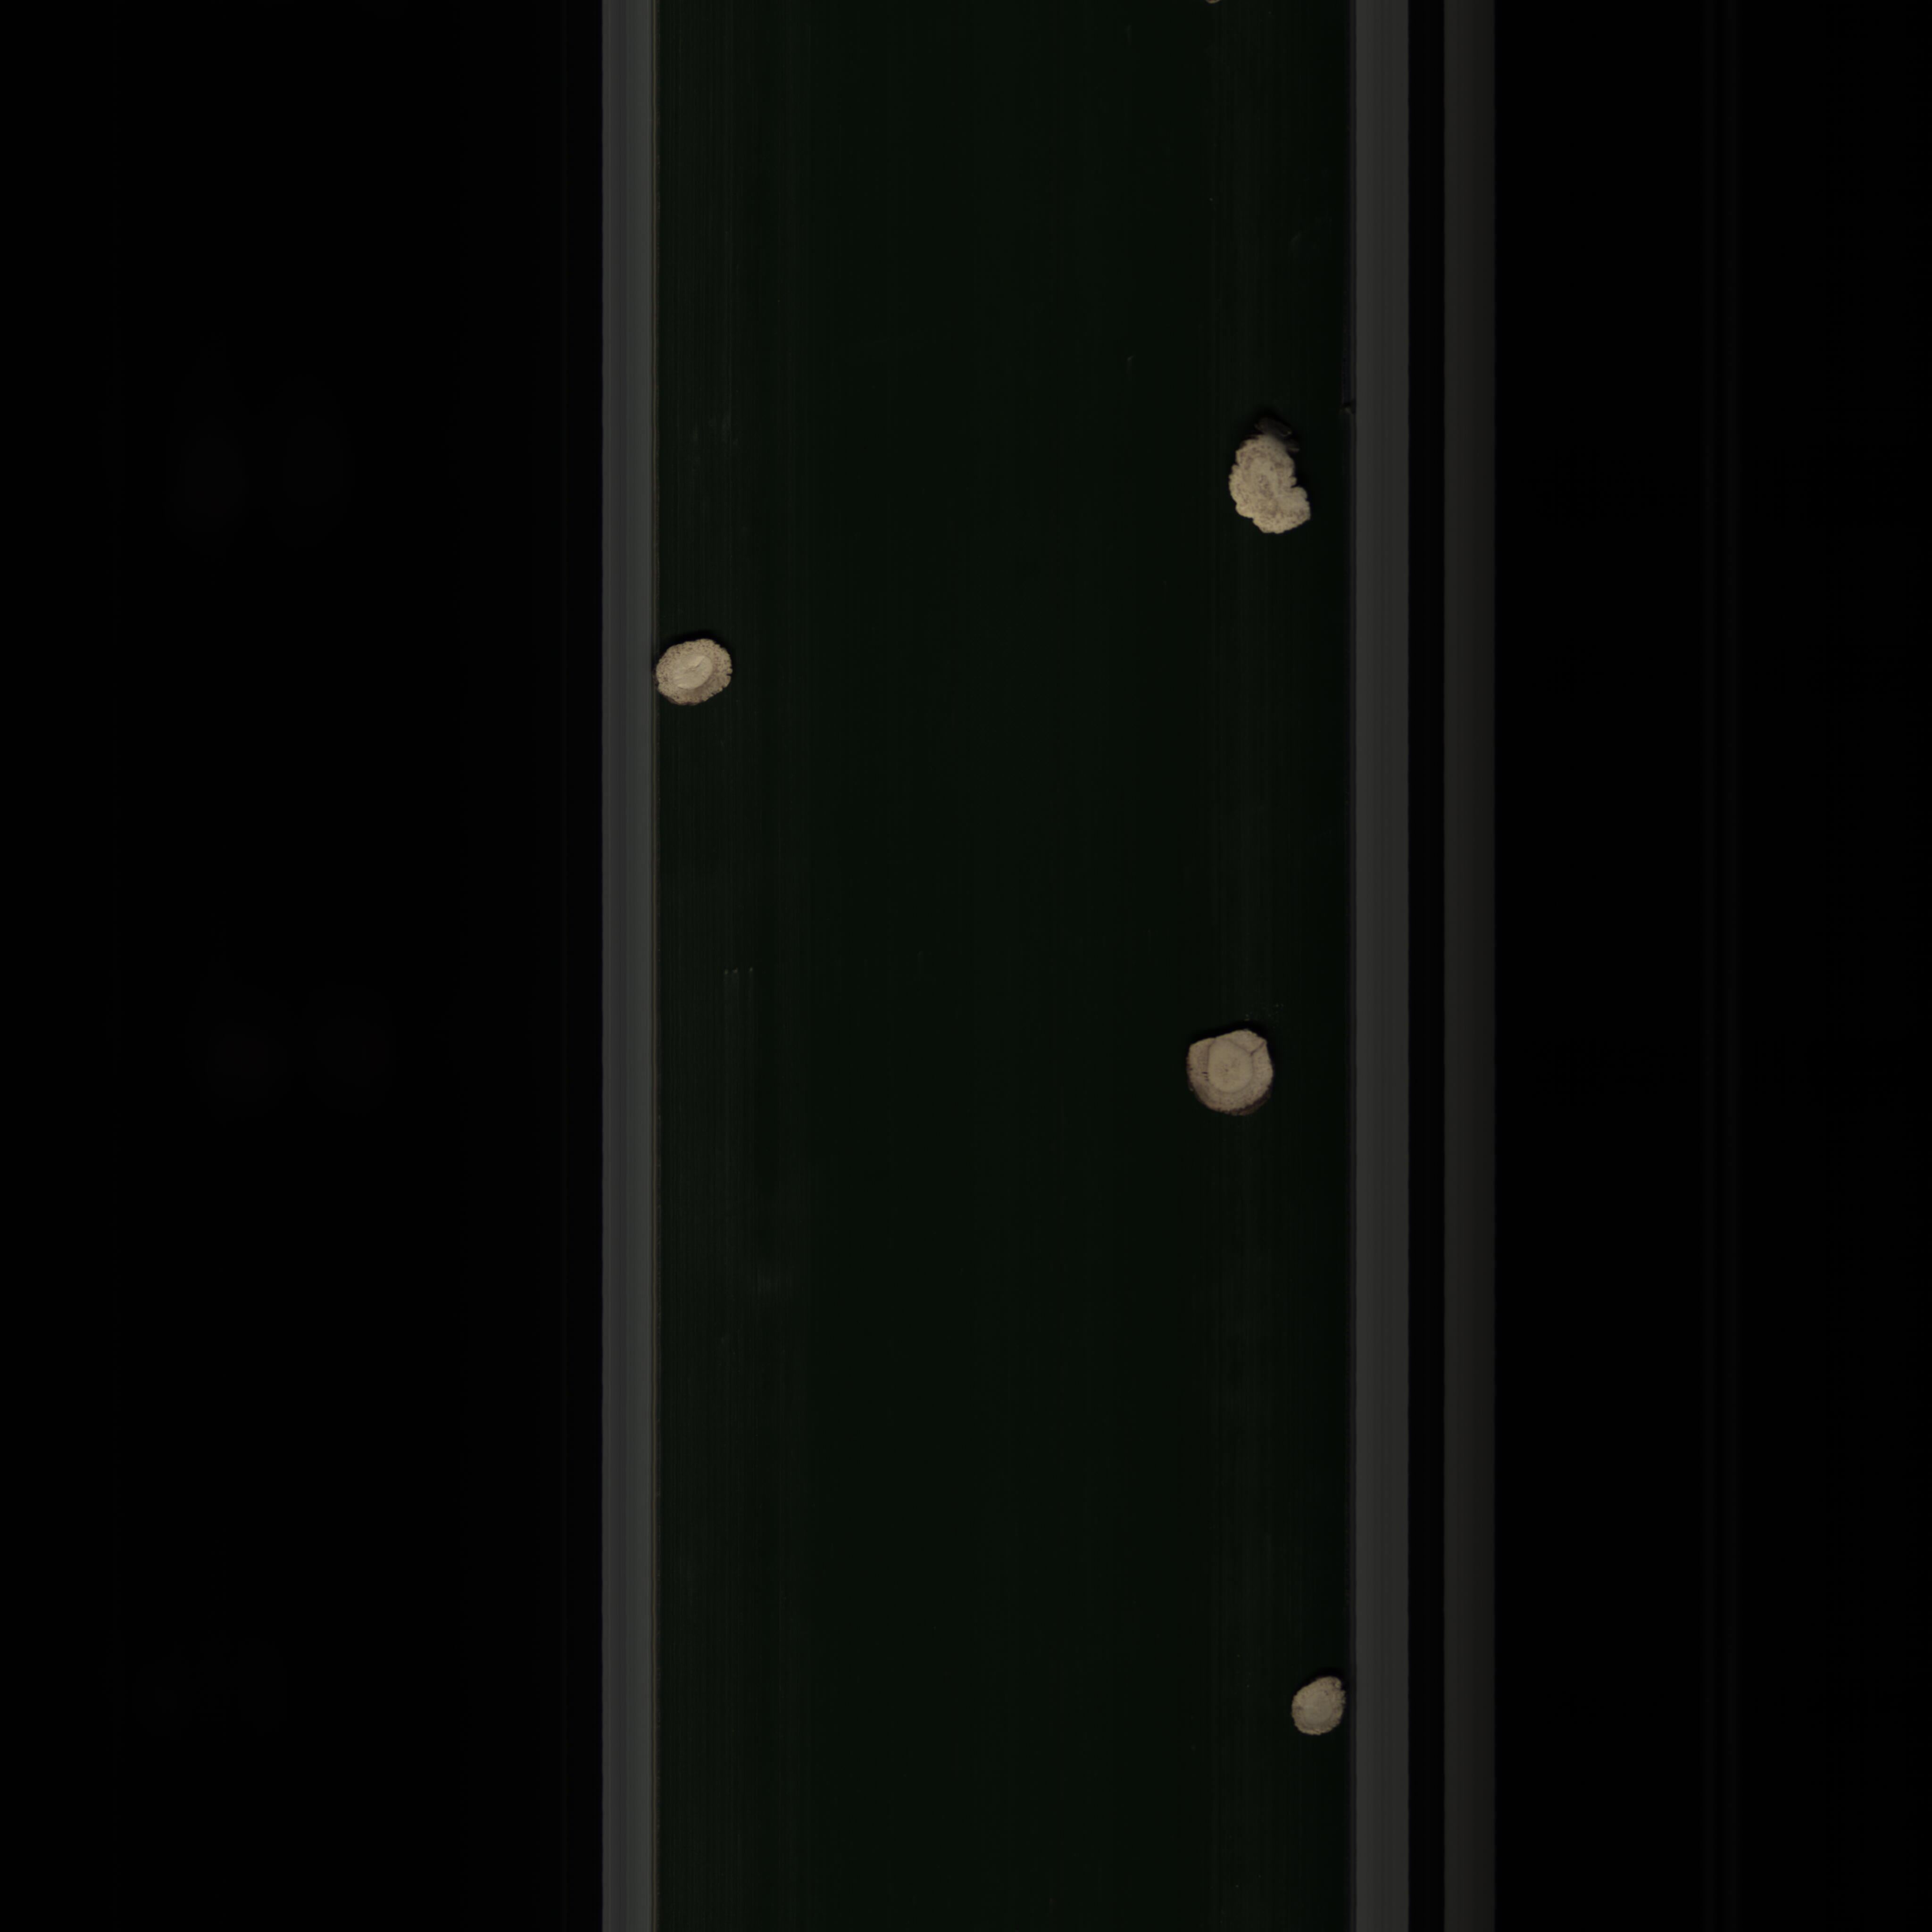debris: (1224, 426, 1325, 547)
